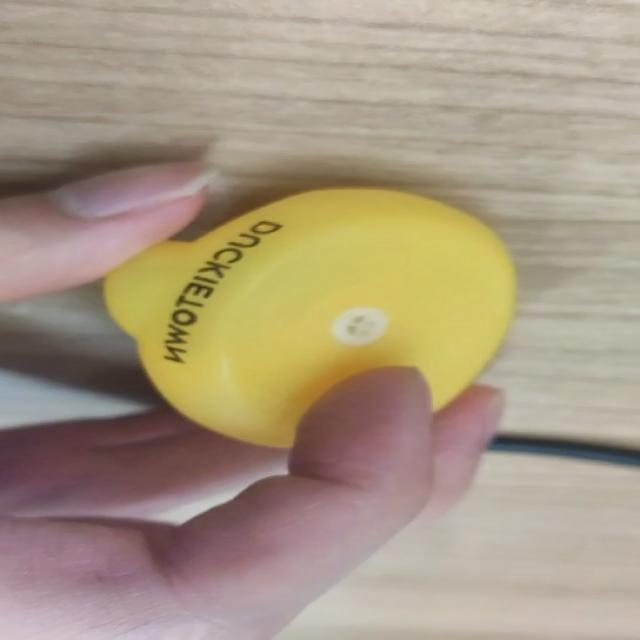rubber-duck: (103, 187, 514, 445)
